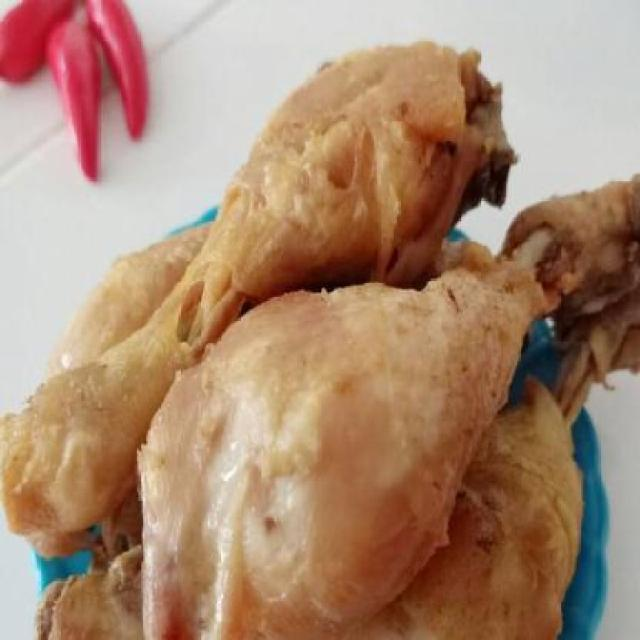Wet Waste: (1, 45, 514, 557), (135, 170, 640, 638), (43, 298, 635, 638)
